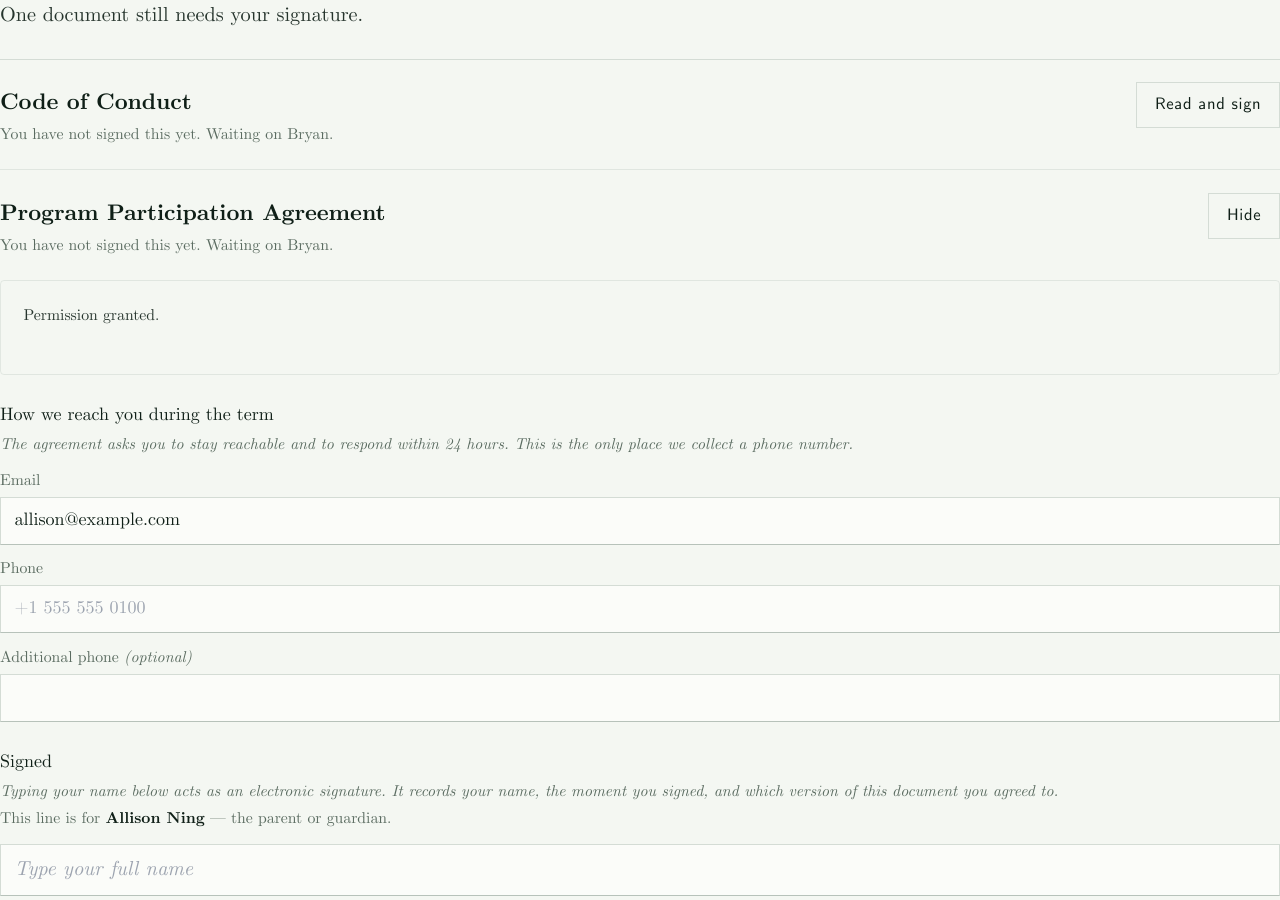
Test case: the guardian contact block › will not enable Sign until a phone number is entered
Type "Allison Hu" into the field with placeholder "Type your full name". click: (640, 870)
box: [0,844,1279,896]
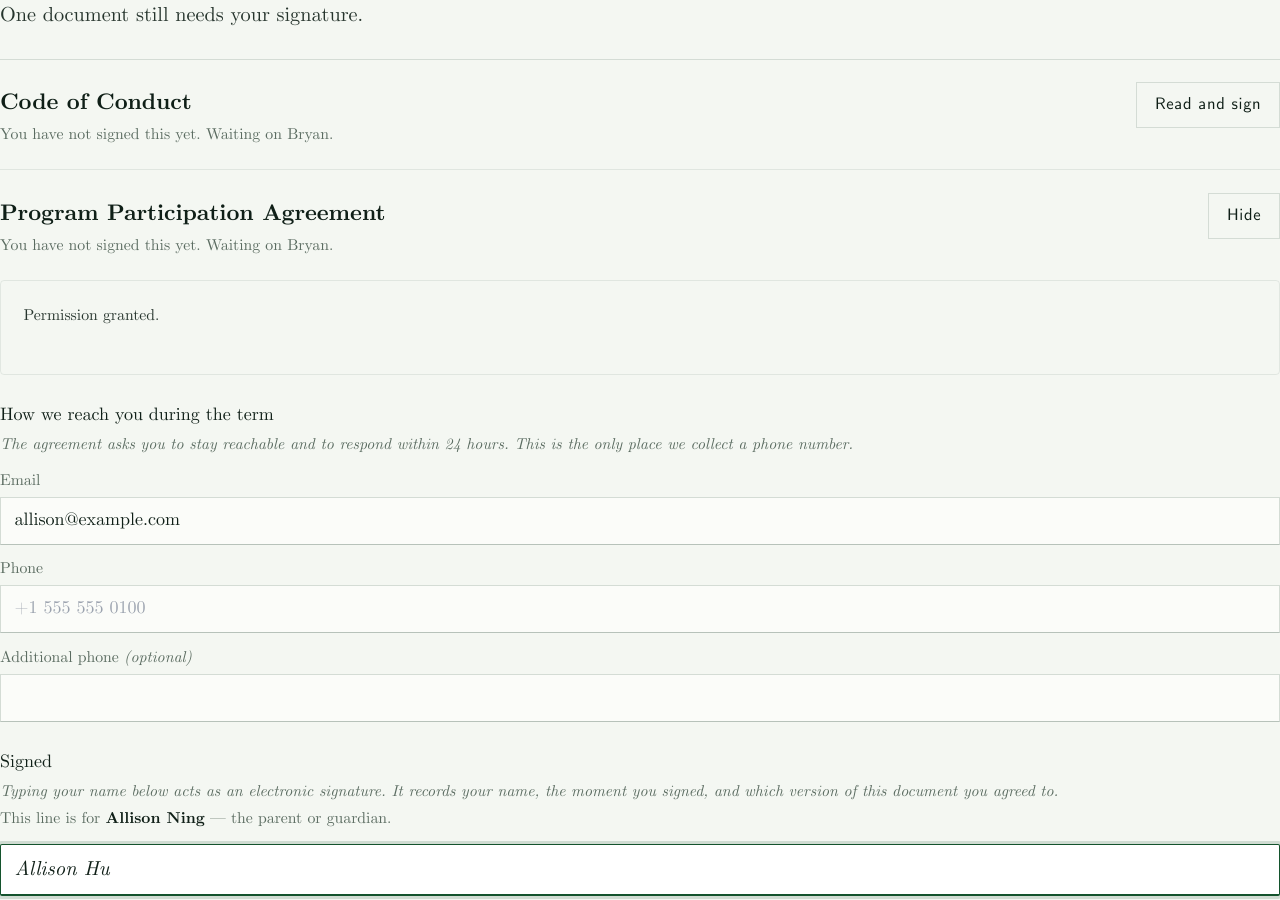
Type "555 0100" into the field with placeholder "+1 555 555 0100". click: (640, 609)
box: [0,585,1279,633]
(page scrolled)
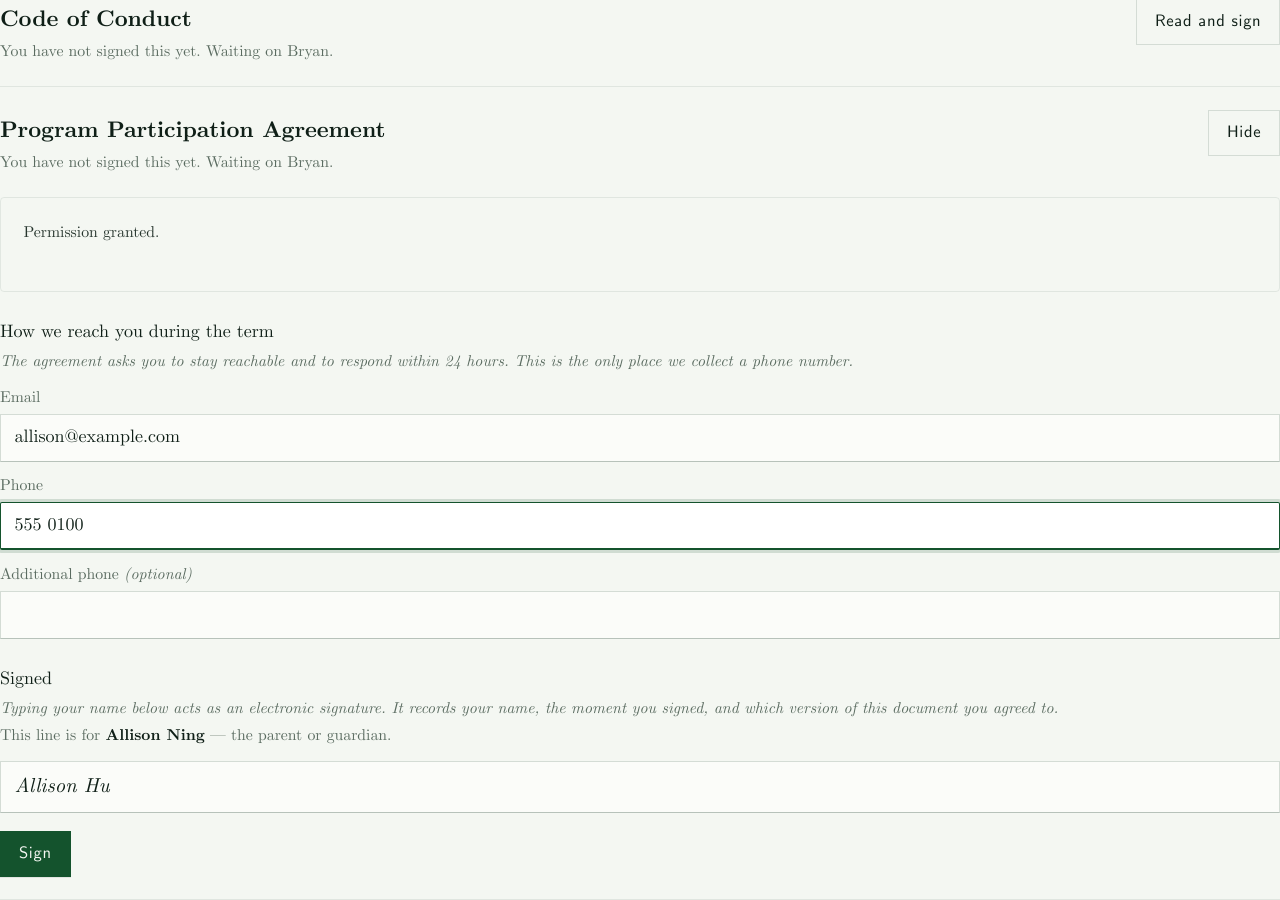
Result: the button "Sign" is enabled at [0,830,71,876]
